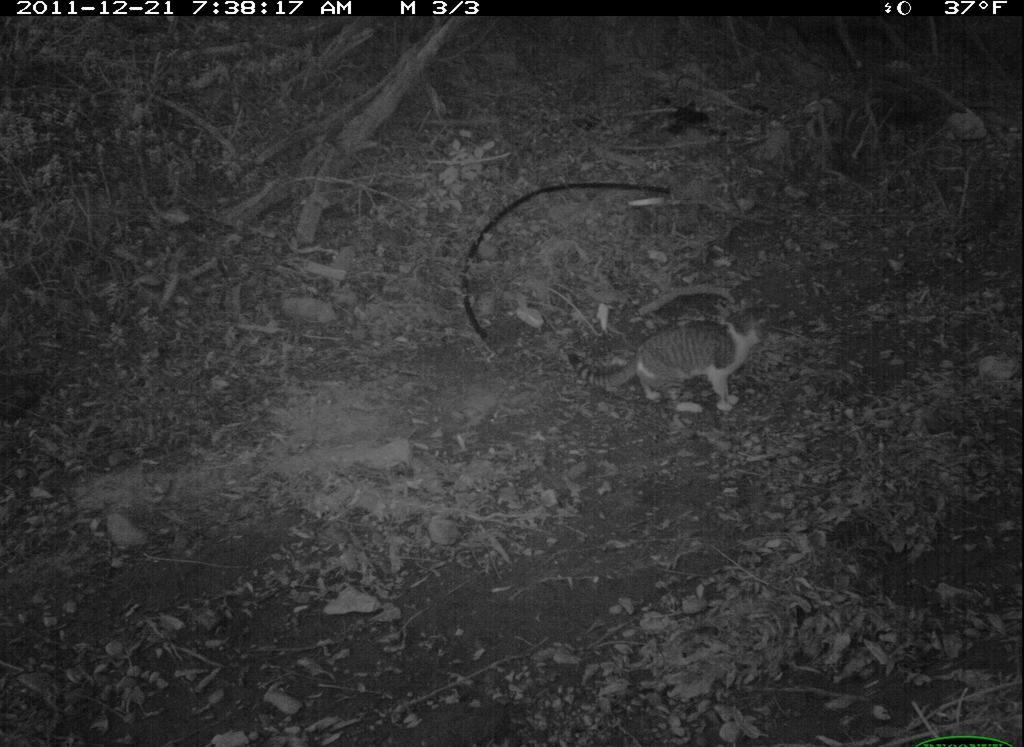cat: (561, 287, 799, 434)
